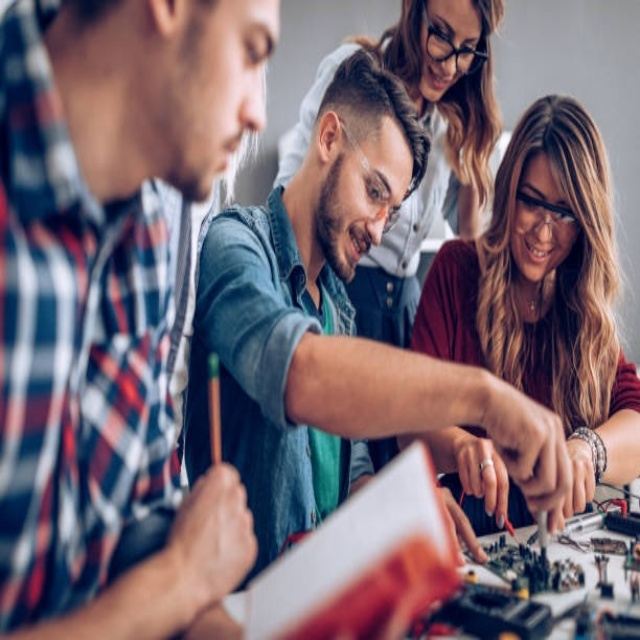Gafas: (337, 117, 412, 224), (422, 3, 488, 75)
Sin_gafas: (216, 8, 273, 88)
Sin_guantes: (165, 460, 262, 620), (478, 365, 574, 518), (450, 430, 514, 533), (557, 433, 601, 516)
Sin_mascara: (183, 124, 248, 196), (334, 231, 384, 281), (522, 235, 554, 281), (420, 63, 455, 104)
